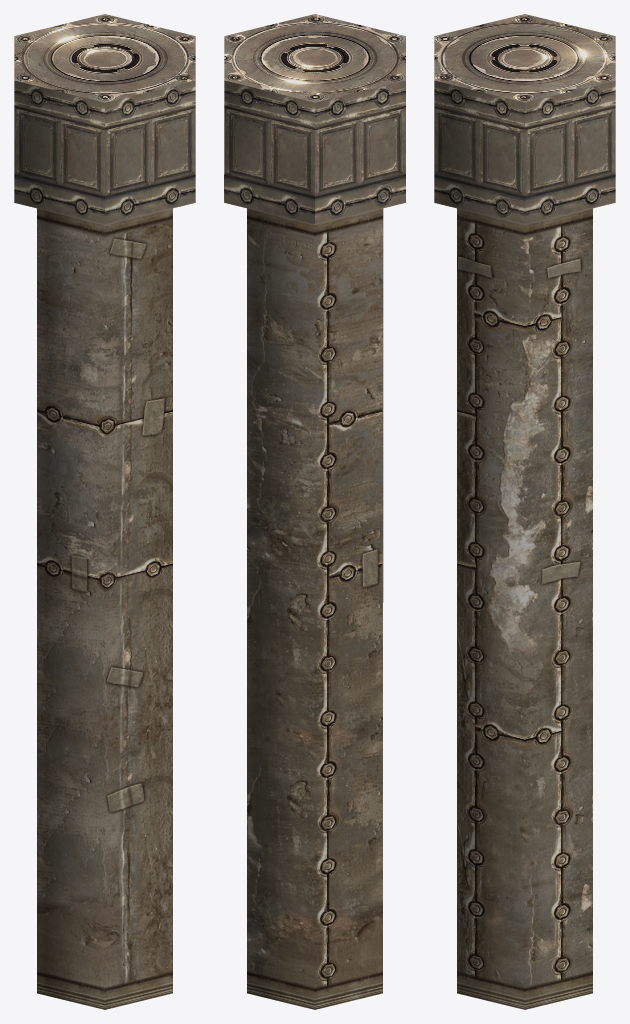
File: pipe_02_low.FBX
3 views of the same model, side by side, from view 1: azimuth 30°, elevation 25°; view 2: azimuth 150°, elevation 25°; view 3: azimuth 270°, elevation 25° (orthographic).
Parts seen in each view (by area): view 1: trubka; view 2: trubka; view 3: trubka.
Boxes of the visible parts, x1,y1,x2,y2 form: trubka: [14, 14, 195, 1009]; trubka: [224, 14, 405, 1009]; trubka: [434, 14, 615, 1009].
Bounding box in the file's own units: 200 × 967 × 173.
Materials: 1 (1 with a texture image).
